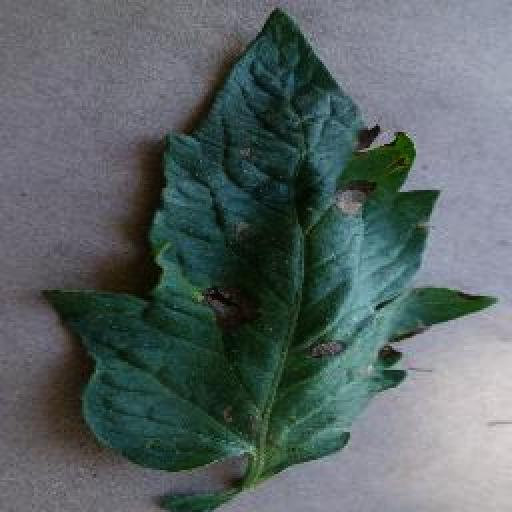Early Blight: (52, 2, 498, 474)
